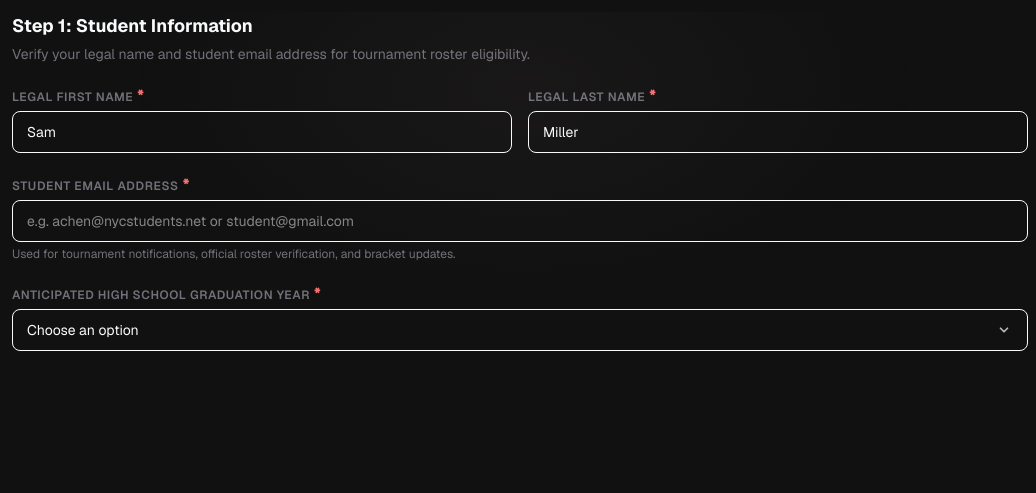
Scenario: content warning in the form › shows an inline error and an override checkbox next to the flagged field only
Replace the text in the field labelled "Legal First Name*" with "Fuckface" at (262, 132), box top-left (12, 111), bottom-right (512, 153)
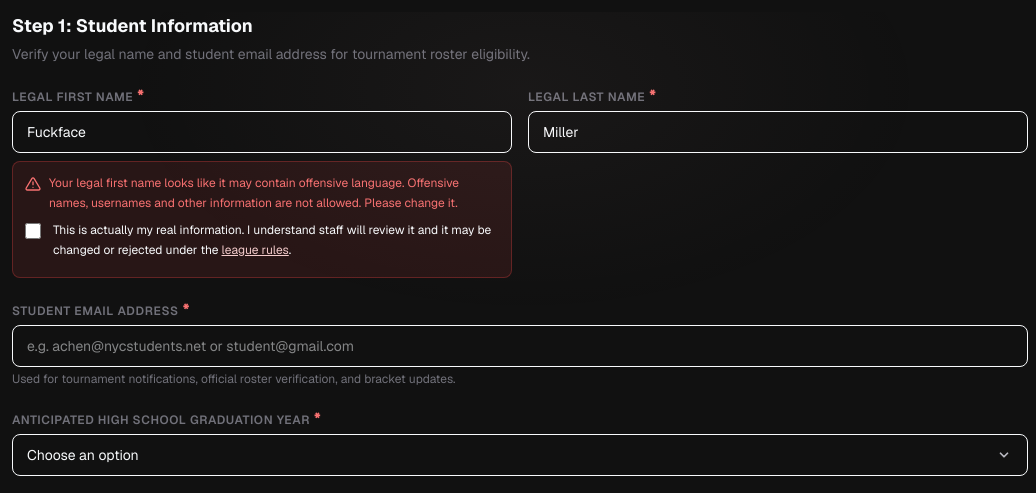
Result: the text "looks like it may contain offensive language" is shown at top-left (49, 175), bottom-right (459, 210)
Result: the checkbox labelled "This is actually my real information" is not checked
Click the checkbox labelled "This is actually my real information" at (33, 231), box top-left (25, 223), bottom-right (41, 239)
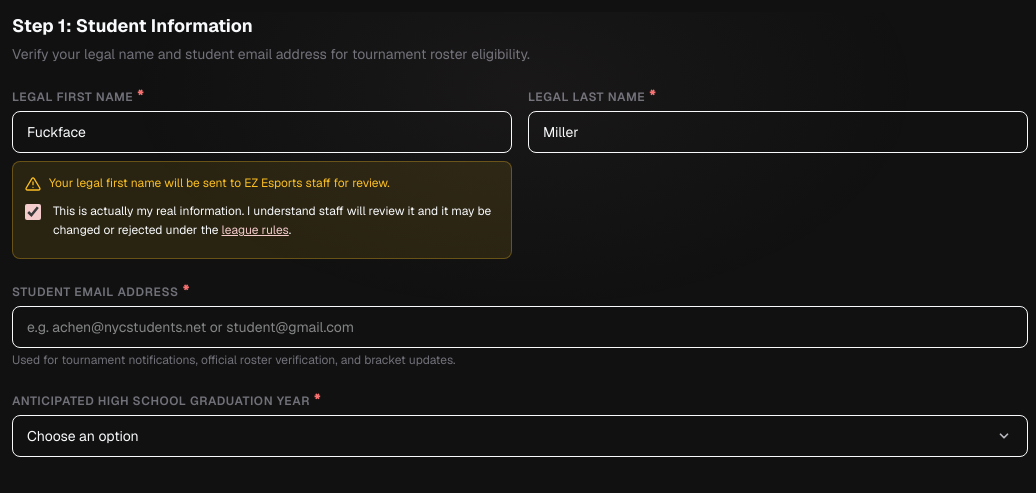
Result: the checkbox labelled "This is actually my real information" is checked at top-left (25, 204), bottom-right (41, 220)
Result: the text "will be sent to EZ Esports staff for review" is shown at top-left (49, 175), bottom-right (390, 191)
Replace the text in the field labelled "Legal First Name*" with "Alex" at (262, 132), box top-left (12, 111), bottom-right (512, 153)
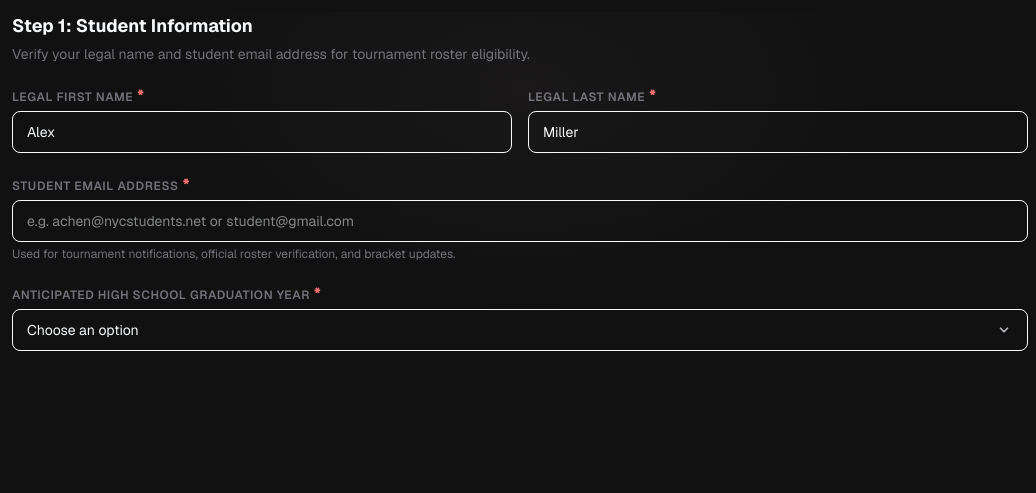
Result: the checkbox is gone
